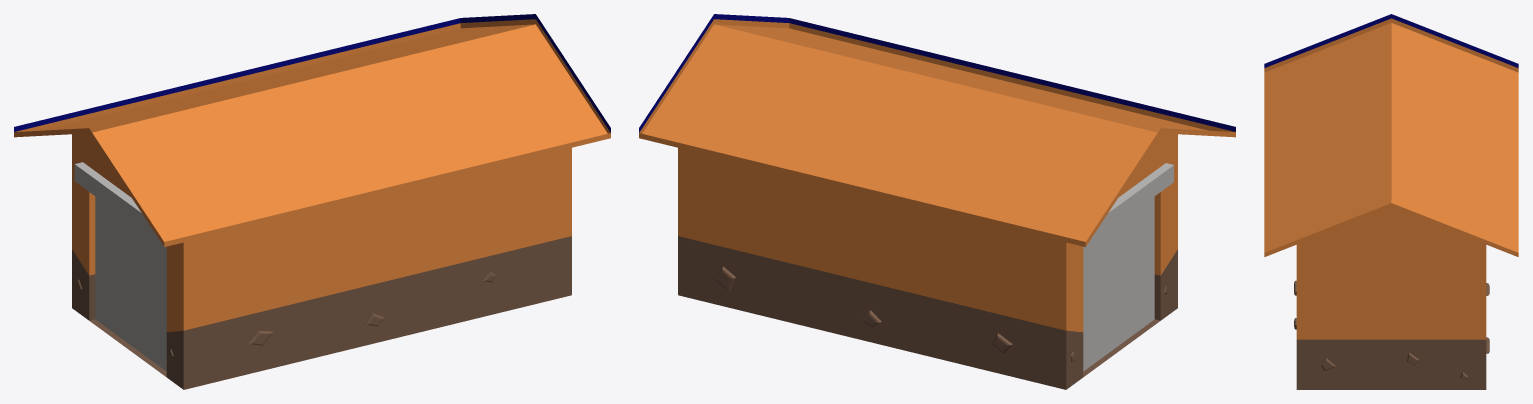
Rendered from Garage.fbx.
3 renders of one model, left to right at view 1: azimuth 30°, elevation 25°; view 2: azimuth 150°, elevation 25°; view 3: azimuth 270°, elevation 25°, orthographic. The views are drawn at different scales.
Parts seen in each view (by area): view 1: Garage 1; view 2: Garage 1; view 3: Garage 1.
Part boxes in pixels (x1=…): Garage 1: x1=14, y1=14, x2=610, y2=389; Garage 1: x1=639, y1=14, x2=1235, y2=389; Garage 1: x1=1264, y1=14, x2=1518, y2=389.
Bounding box in the file's own units: 2247 × 1132 × 1309.
